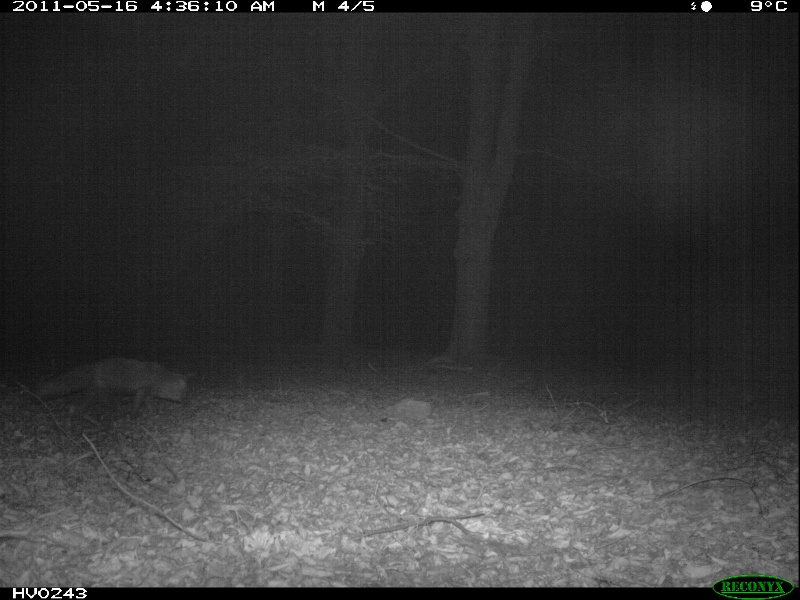fox: (28, 358, 194, 416)
